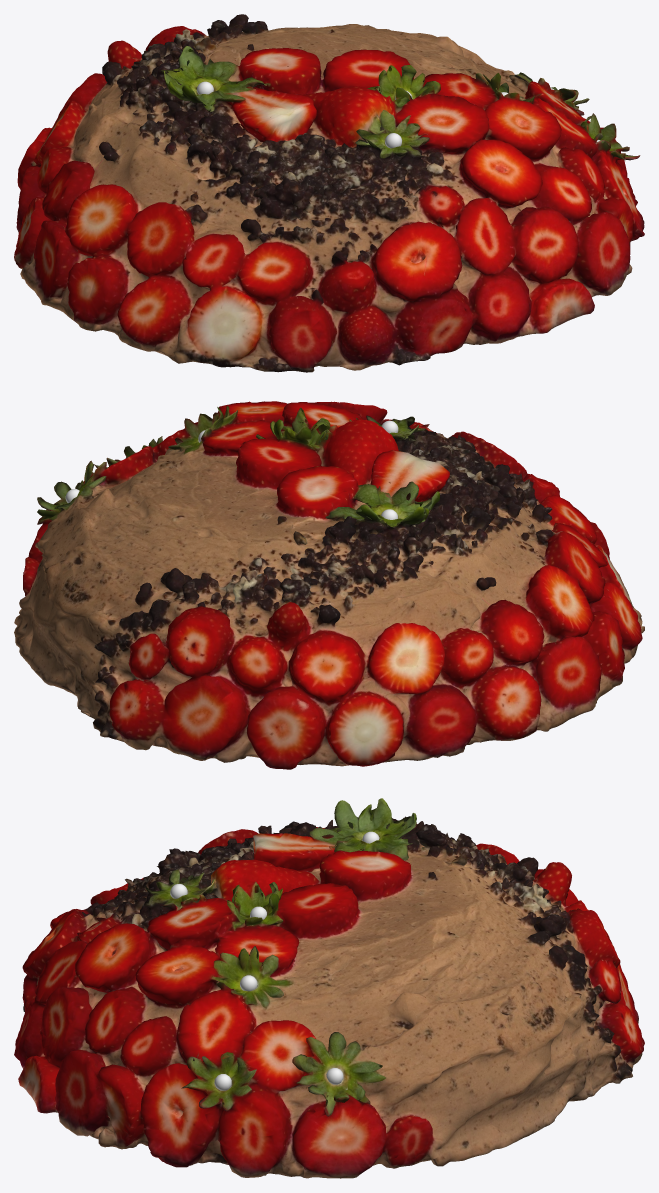
The model's file is strawberry_chocolate_cake.glb.
3 views of the same model, one above another, from view 1: azimuth 30°, elevation 25°; view 2: azimuth 150°, elevation 25°; view 3: azimuth 270°, elevation 25° (orthographic). The views are drawn at different scales.
Visible parts, largest first — view 1: strawberry_chocolate_cake; view 2: strawberry_chocolate_cake; view 3: strawberry_chocolate_cake.
Boxes of the visible parts, <box> form: strawberry_chocolate_cake: <box>14,14,644,372</box>; strawberry_chocolate_cake: <box>14,401,644,769</box>; strawberry_chocolate_cake: <box>14,798,644,1178</box>.
Size of the model in its own units: 0.2445 by 0.0803 by 0.2405.
Materials: 1 (1 with a texture image).
